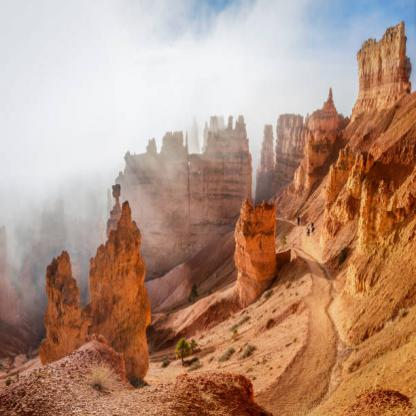Sedimentary_Sandstone: (88, 193, 157, 384), (40, 240, 90, 362), (352, 16, 416, 111), (301, 92, 352, 201), (235, 197, 282, 301), (169, 366, 253, 415)
